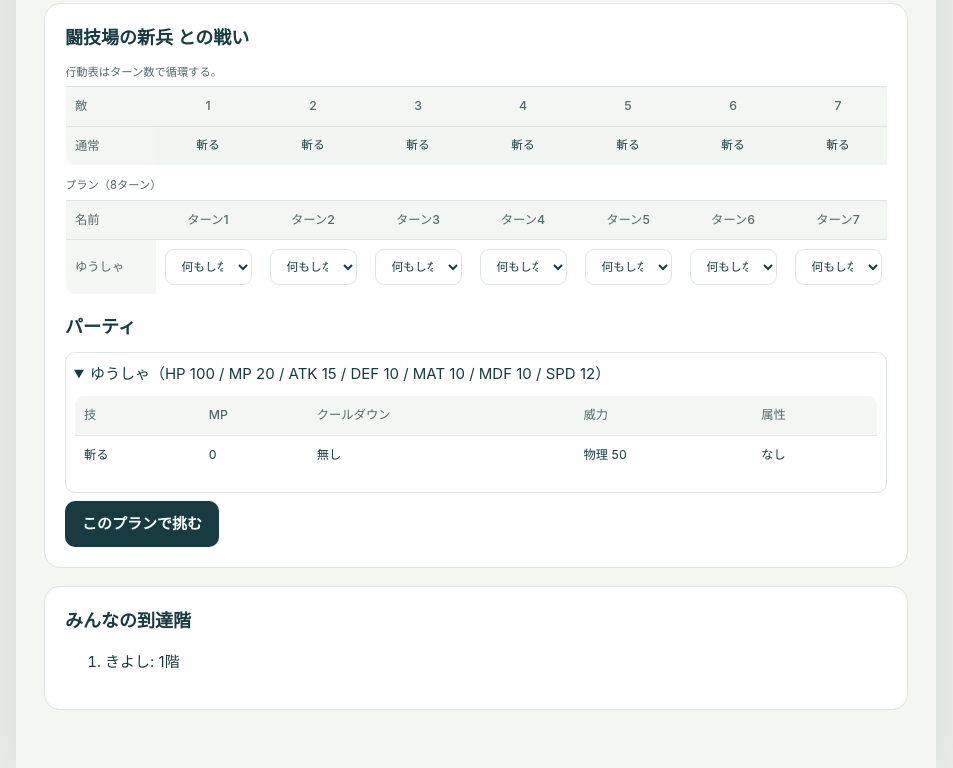
Test: 送信・再挑戦（設計書 §2「勝てるまで並びを組み替える」） › 勝つと初回撃破のメッセージが出る
(page scrolled)
Expected: the text "プラン（8ターン）" is shown, [65, 178, 161, 192]
Click the button "このプランで挑む": (142, 524) [65, 501, 219, 547]
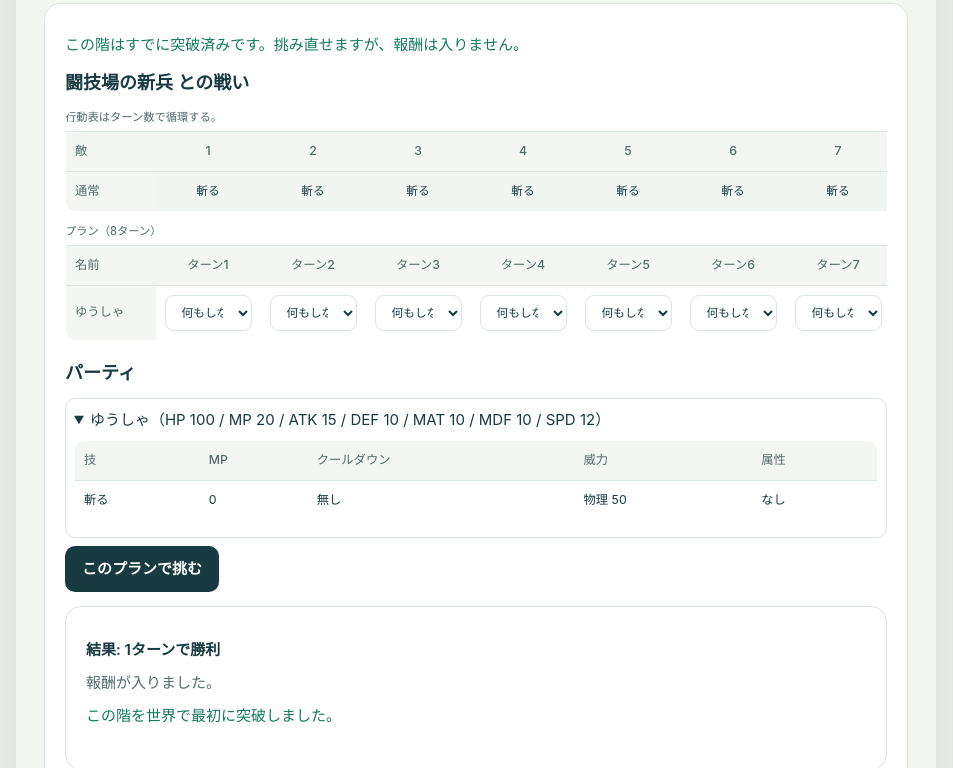
Expected: the text "この階を世界で最初に突破しました。" is shown, [86, 706, 341, 725]
Expected: the text "報酬が入りました。" is shown, [86, 673, 221, 692]
